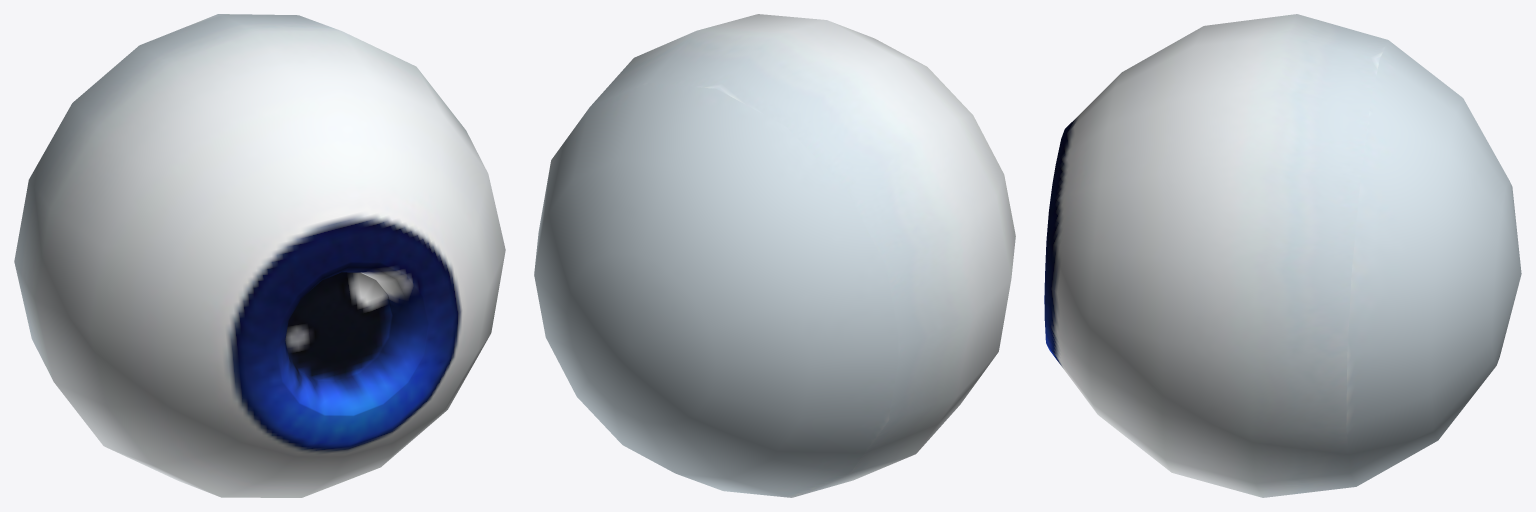
File: hashiqi_eye_left.fbx
3 views of the same model, side by side, from view 1: azimuth 30°, elevation 25°; view 2: azimuth 150°, elevation 25°; view 3: azimuth 270°, elevation 25° (orthographic).
Visible parts, largest first — view 1: lefteye; view 2: lefteye; view 3: lefteye.
Boxes of the visible parts, x1=… form: lefteye: x1=14, y1=14, x2=505, y2=497; lefteye: x1=534, y1=14, x2=1015, y2=497; lefteye: x1=1044, y1=14, x2=1521, y2=497.
Bounding box in the file's own units: 0.0626 × 0.0627 × 0.0618.
